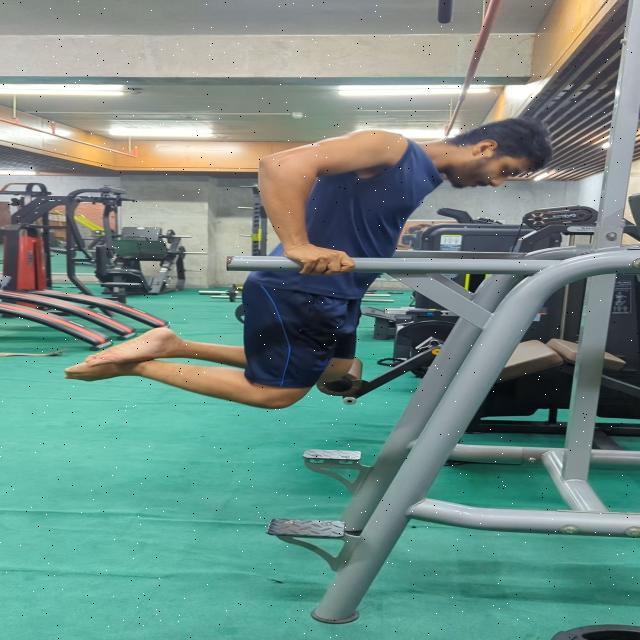Normal_Dips: (50, 110, 560, 415)
